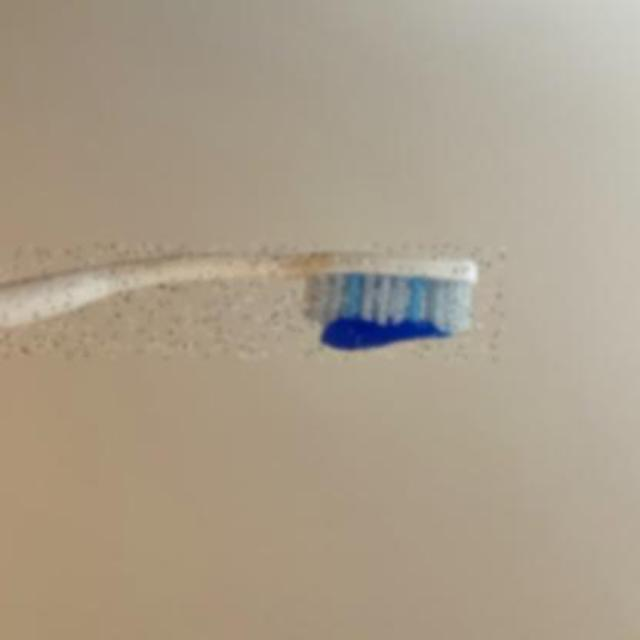toothbrush: (0, 244, 504, 360)
